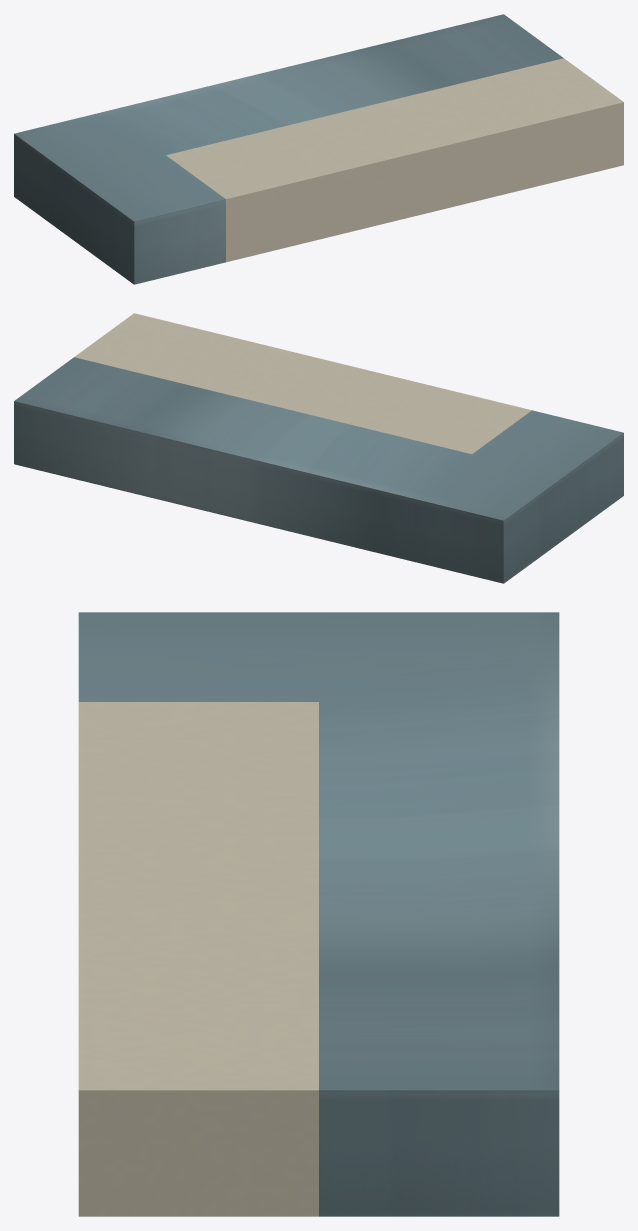
File: set_pillar_01_14_base.fbx
3 renders of one model, top to bottom at view 1: azimuth 30°, elevation 25°; view 2: azimuth 150°, elevation 25°; view 3: azimuth 270°, elevation 25°, orthographic. The views are drawn at different scales.
Visible parts, largest first — view 1: set_pillar_01_14_base; view 2: set_pillar_01_14_base; view 3: set_pillar_01_14_base.
Part boxes in pixels (<box>): set_pillar_01_14_base: <box>14,14,623,284</box>; set_pillar_01_14_base: <box>14,313,623,583</box>; set_pillar_01_14_base: <box>78,612,559,1216</box>.
Bounding box in the file's own units: 160 × 19.7 × 68.
